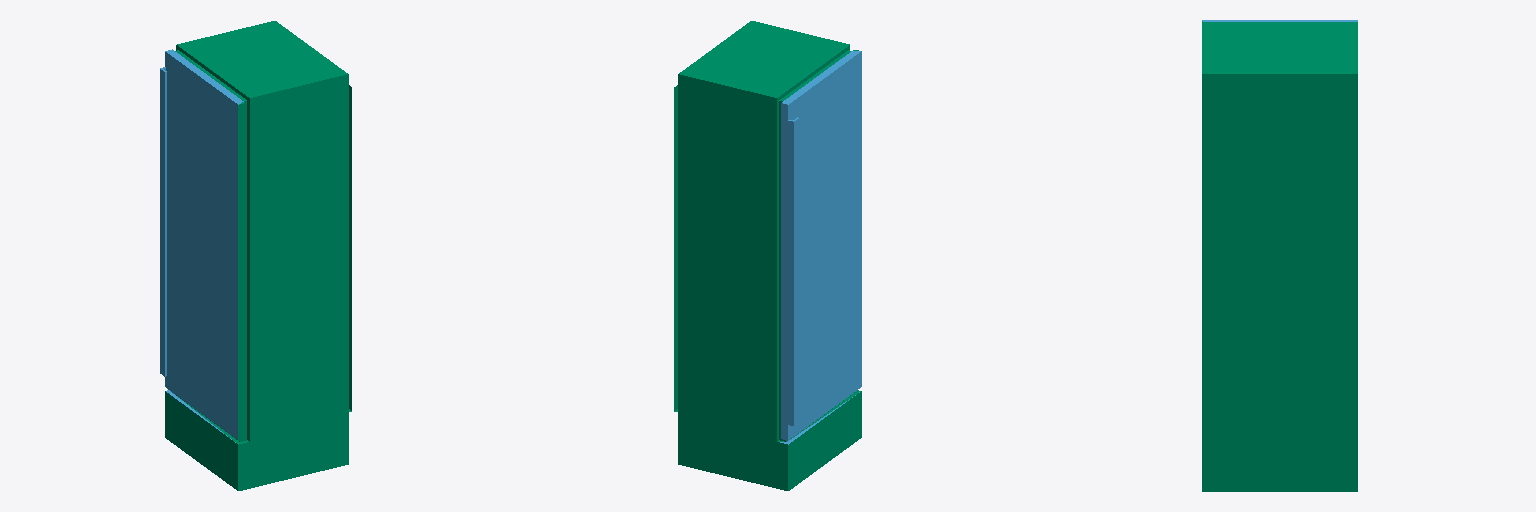
URDF robot description (partnet_6fb955194baf07a750a5eaedf6275e1b):
<?xml version="1.0" ?>
<robot name="partnet_6fb955194baf07a750a5eaedf6275e1b">
	<link name="base"/>
	<link name="link_0">
		<visual name="door_frame-8">
			<origin xyz="-0.2821021621095614 -0.760993 -0.24919549345370484"/>
			<geometry>
				<mesh filename="textured_objs/new-3.obj"/>
			</geometry>
		</visual>
		<visual name="handle-9">
			<origin xyz="-0.2821021621095614 -0.760993 -0.24919549345370484"/>
			<geometry>
				<mesh filename="textured_objs/new-1.obj"/>
			</geometry>
		</visual>
		<visual name="glass-10">
			<origin xyz="-0.2821021621095614 -0.760993 -0.24919549345370484"/>
			<geometry>
				<mesh filename="textured_objs/new-2.obj"/>
			</geometry>
		</visual>
		<collision>
			<origin xyz="-0.2821021621095614 -0.760993 -0.24919549345370484"/>
			<geometry>
				<mesh filename="textured_objs/new-3.obj"/>
			</geometry>
		</collision>
		<collision>
			<origin xyz="-0.2821021621095614 -0.760993 -0.24919549345370484"/>
			<geometry>
				<mesh filename="textured_objs/new-1.obj"/>
			</geometry>
		</collision>
		<collision>
			<origin xyz="-0.2821021621095614 -0.760993 -0.24919549345370484"/>
			<geometry>
				<mesh filename="textured_objs/new-2.obj"/>
			</geometry>
		</collision>
	</link>
	<joint name="joint_0" type="revolute">
		<origin xyz="0.2821021621095614 0.760993 0.24919549345370484"/>
		<axis xyz="0 1 0"/>
		<child link="link_0"/>
		<parent link="link_1"/>
		<limit lower="0.0" upper="3.141592653589793"/>
	</joint>
	<link name="link_1">
		<visual name="other_leaf-4">
			<origin xyz="0 0 0"/>
			<geometry>
				<mesh filename="textured_objs/new-6.obj"/>
			</geometry>
		</visual>
		<visual name="frame-5">
			<origin xyz="0 0 0"/>
			<geometry>
				<mesh filename="textured_objs/new-5.obj"/>
			</geometry>
		</visual>
		<visual name="frame-5">
			<origin xyz="0 0 0"/>
			<geometry>
				<mesh filename="textured_objs/new-4.obj"/>
			</geometry>
		</visual>
		<collision>
			<origin xyz="0 0 0"/>
			<geometry>
				<mesh filename="textured_objs/new-6.obj"/>
			</geometry>
		</collision>
		<collision>
			<origin xyz="0 0 0"/>
			<geometry>
				<mesh filename="textured_objs/new-5.obj"/>
			</geometry>
		</collision>
		<collision>
			<origin xyz="0 0 0"/>
			<geometry>
				<mesh filename="textured_objs/new-4.obj"/>
			</geometry>
		</collision>
	</link>
	<joint name="joint_1" type="fixed">
		<origin rpy="1.570796326794897 0 -1.570796326794897" xyz="0 0 0"/>
		<child link="link_1"/>
		<parent link="base"/>
	</joint>
</robot>

--- Render facts (derived) ---
The picture shows the robot from 3 angles, left to right: view 1: azimuth 30°, elevation 25°; view 2: azimuth 150°, elevation 25°; view 3: azimuth 270°, elevation 25°; orthographic projection.
Model partnet_6fb955194baf07a750a5eaedf6275e1b with 3 links and 2 joints (1 revolute, 1 fixed), rooted at base, posed all joints at 0.
Visible links, largest first — view 1: link_1, link_0; view 2: link_1, link_0; view 3: link_1.
Link boxes in pixels (left/top/right/bottom): link_1: left=165, top=21, right=351, bottom=490; link_0: left=160, top=49, right=243, bottom=442; link_1: left=674, top=21, right=861, bottom=490; link_0: left=780, top=51, right=861, bottom=444; link_1: left=1202, top=21, right=1357, bottom=491.
Size in the robot's own frame: 0.5704 by 0.5789 by 1.7 metres.
6 mesh visuals loaded from 6 distinct referenced files (6 OBJ).
